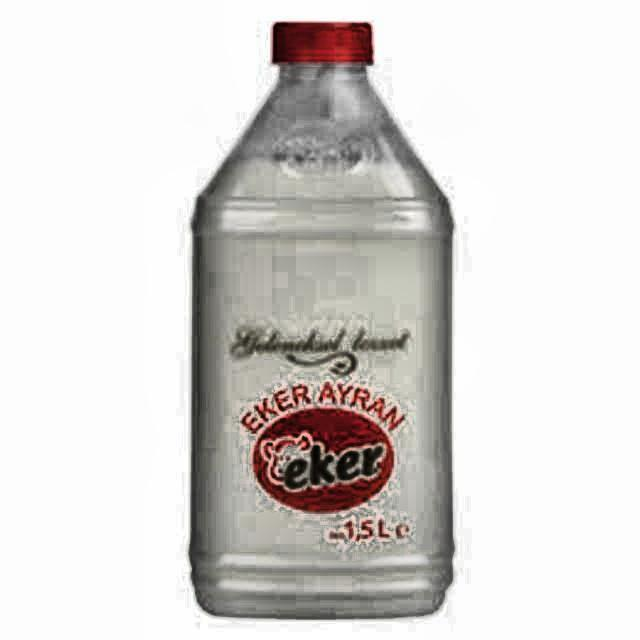plastic: (186, 21, 456, 624)
